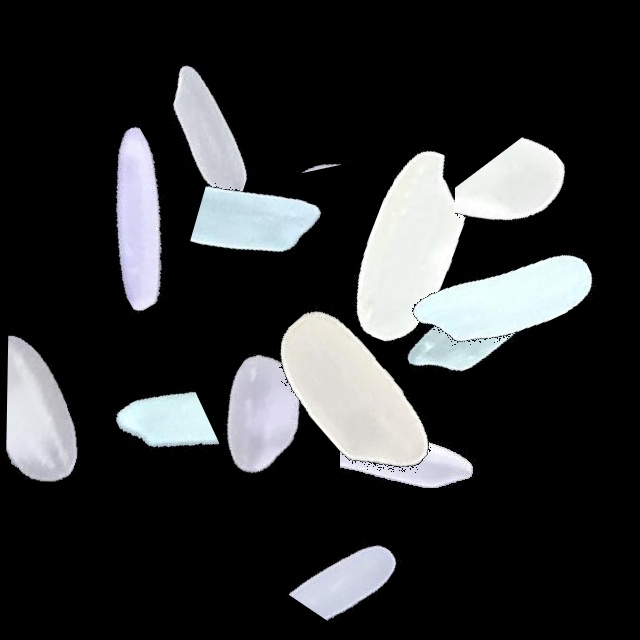Broken: (153, 147, 403, 310), (340, 329, 502, 579), (233, 473, 483, 625), (377, 286, 627, 437), (6, 283, 152, 533), (19, 375, 269, 509), (455, 90, 566, 340), (33, 72, 120, 322), (279, 0, 364, 250)
Full: (287, 123, 537, 373), (11, 96, 261, 346), (84, 8, 334, 258), (378, 174, 628, 424), (135, 289, 385, 539), (226, 274, 476, 524)
